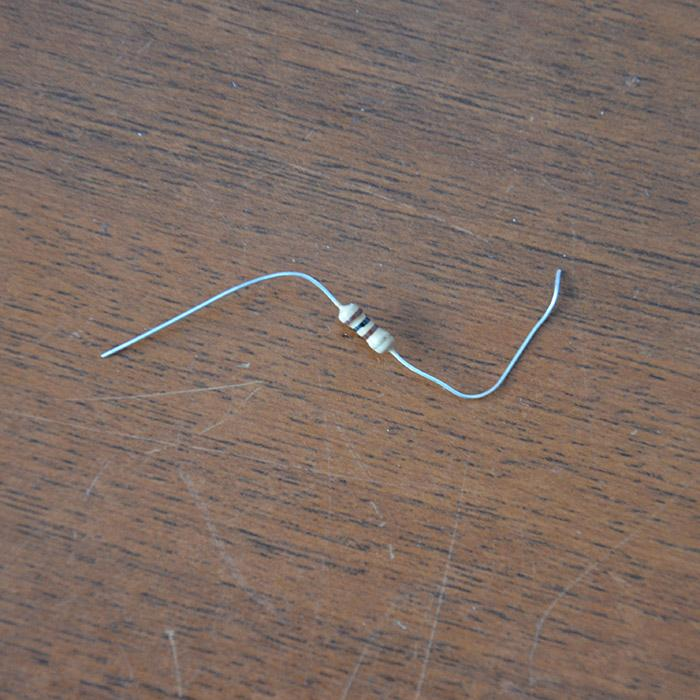resistor: (337, 301, 395, 355)
